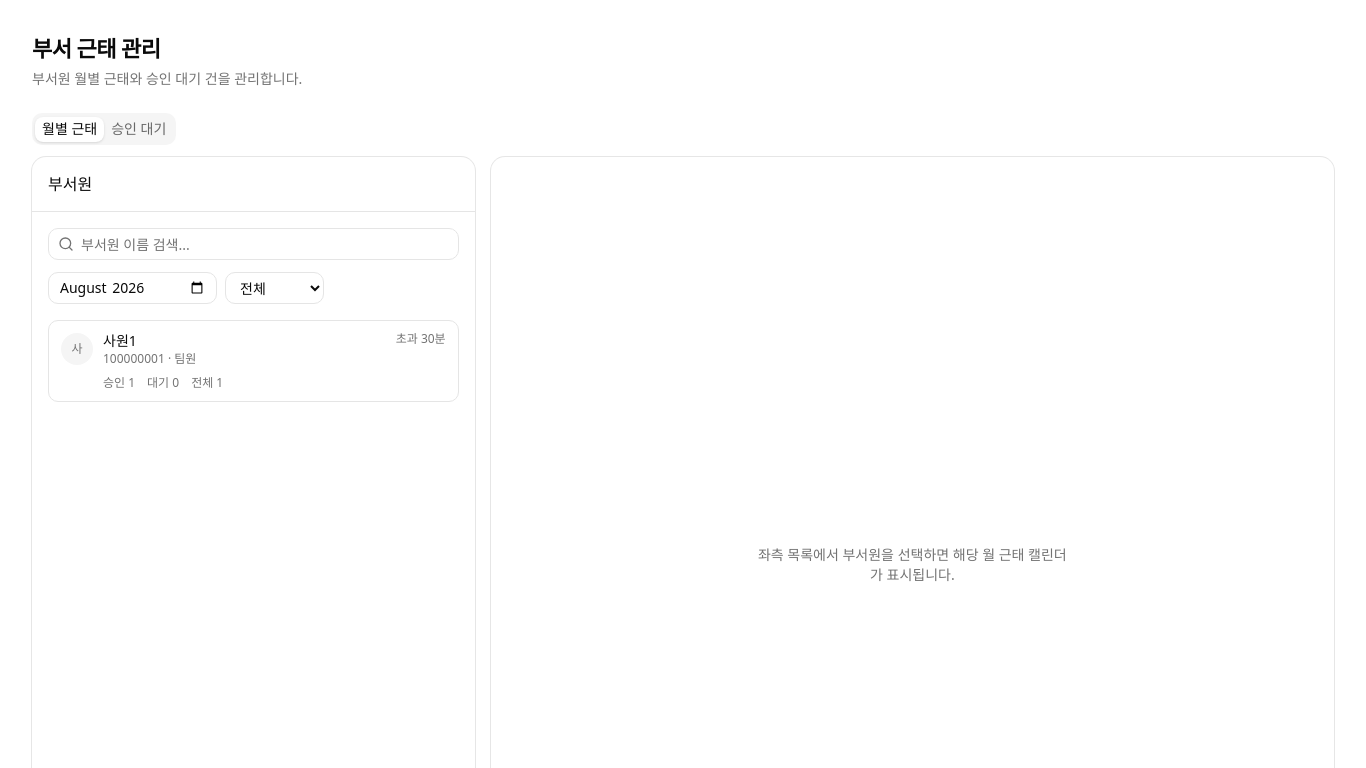
it: DeptAttendancePage (F305/F306) - 탭①/탭② 상태 분리(usePageState 별도 인스턴스) › 탭②에서 페이지를 이동한 뒤 탭①로 전환했다 돌아와도 탭②의 조회 페이지가 유지된다
The image size is (1366, 768).
Check: the text "사원1" is shown, box [103, 331, 137, 350]
What coordinates should you click on to do the following:
click the tab "승인 대기"
I would click on:
 (139, 129)
Its box is [104, 116, 173, 142].
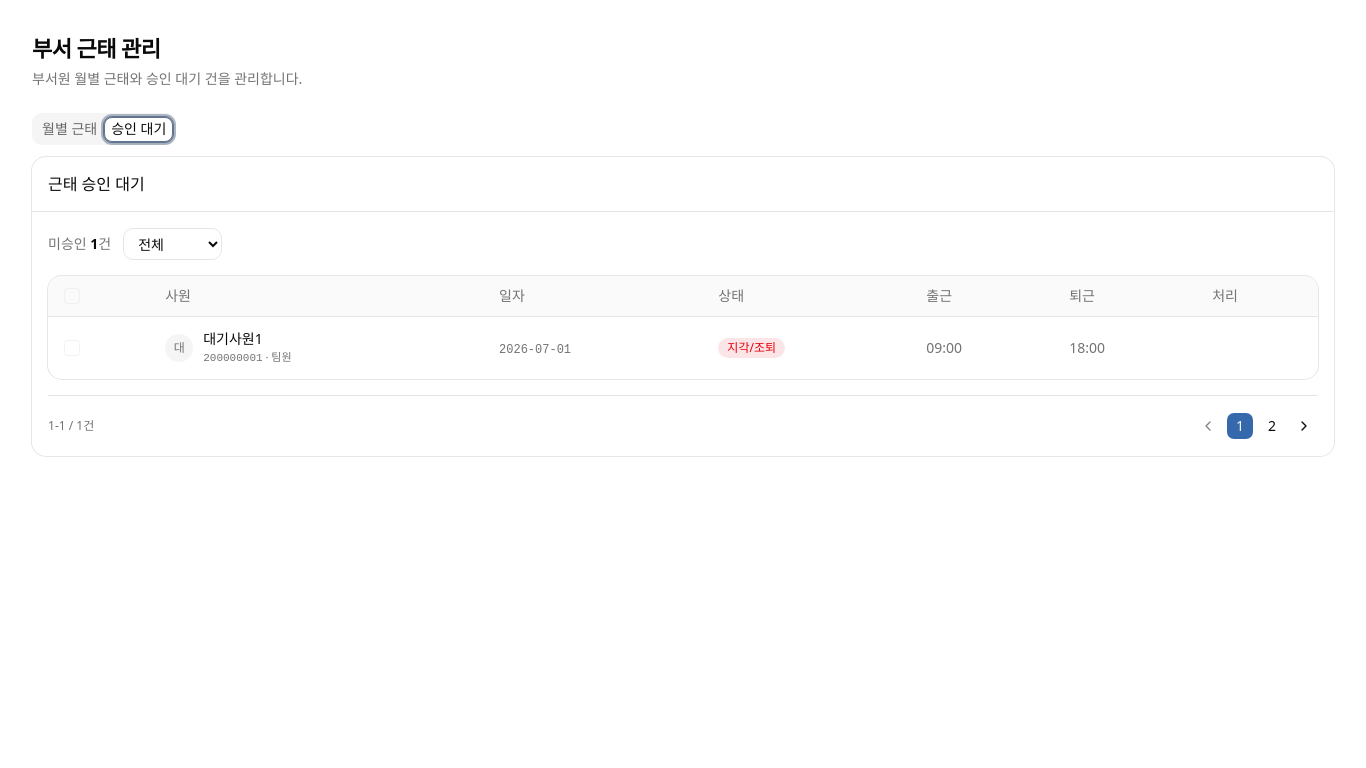
Check: the text "대기사원1" is shown, box [203, 329, 263, 348]
What coordinates should you click on to do the following:
click the button named "다음 페이지"
I would click on:
 (1304, 426)
Its box is [1290, 412, 1318, 440].
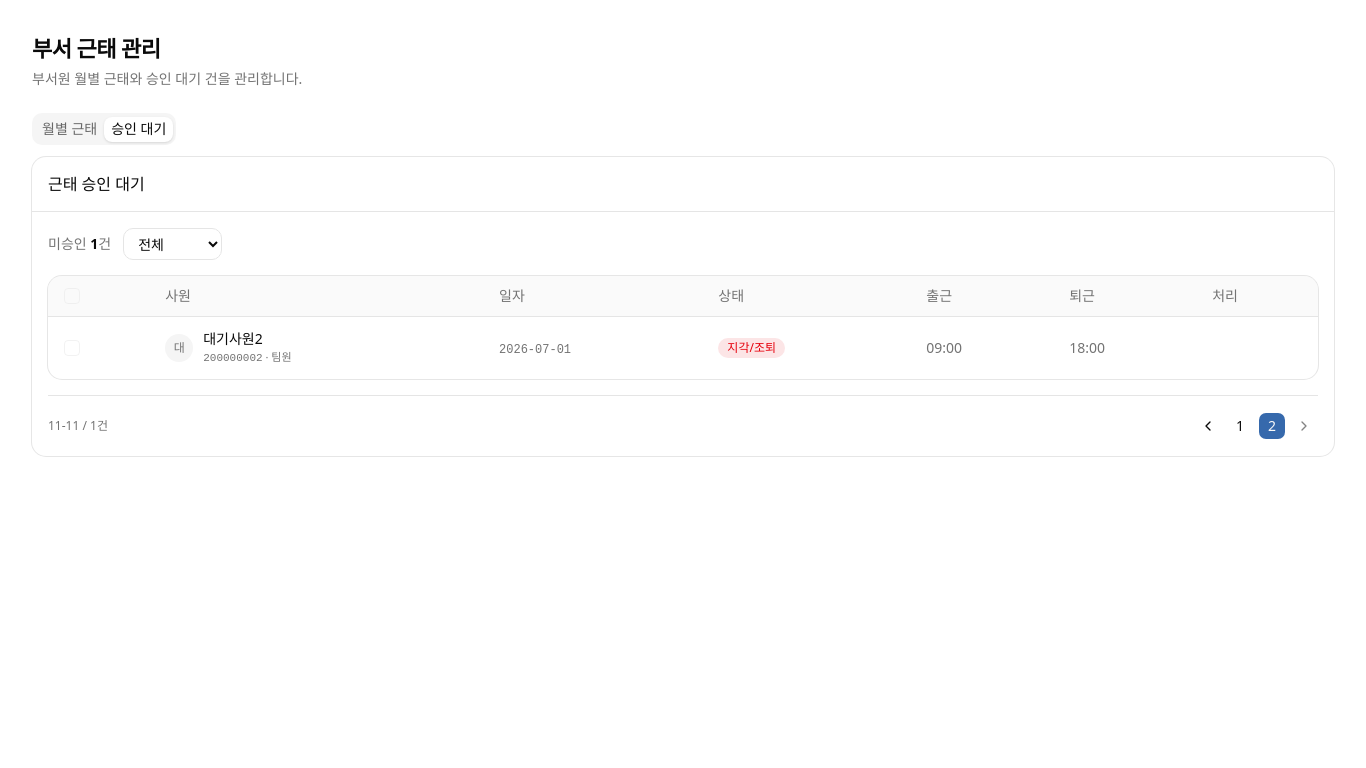
Check: the text "대기사원2" is shown, box [203, 329, 263, 348]
What coordinates should you click on to do the following:
click the tab "월별 근태"
I would click on:
 (70, 129)
Its box is [35, 116, 104, 142].
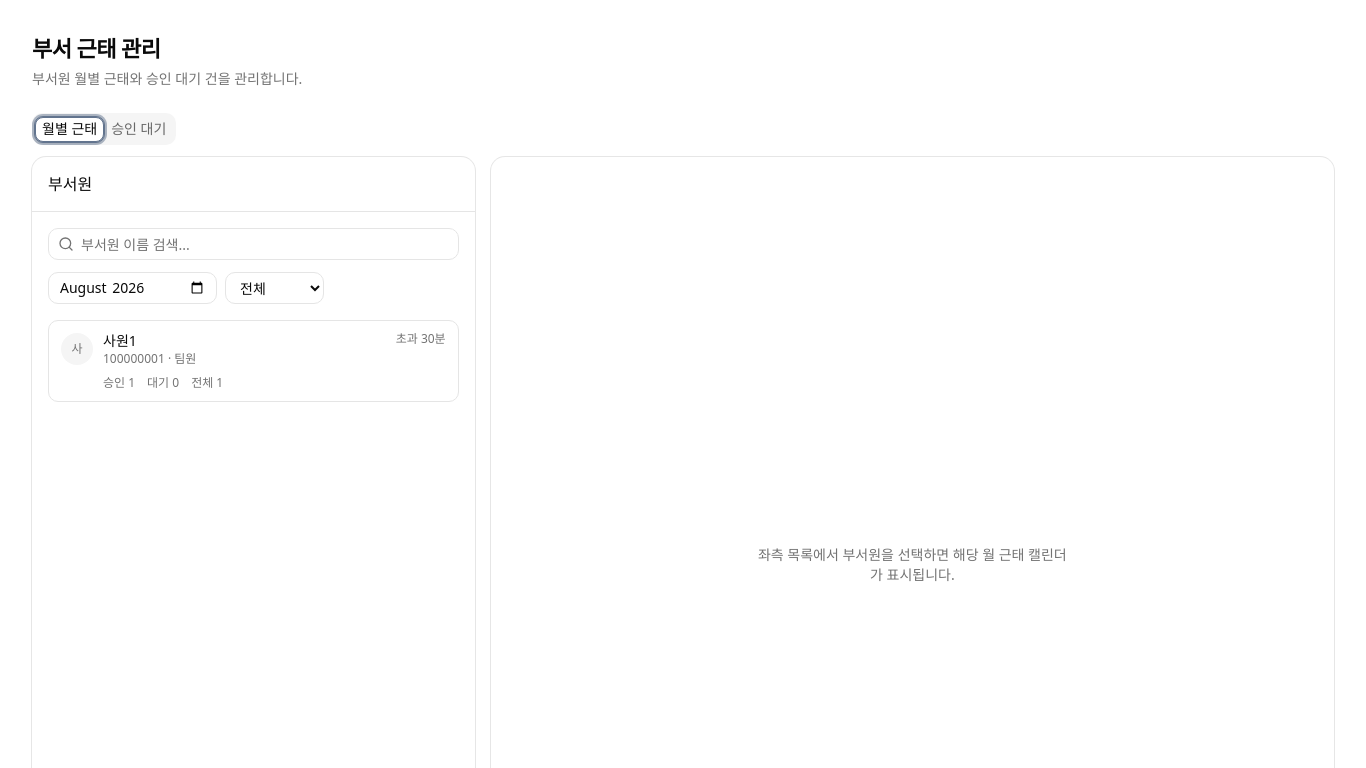
Check: the text "사원1" is shown, box [103, 331, 137, 350]
What coordinates should you click on to do the following:
click the tab "승인 대기"
I would click on:
 (139, 129)
Its box is [104, 116, 173, 142].
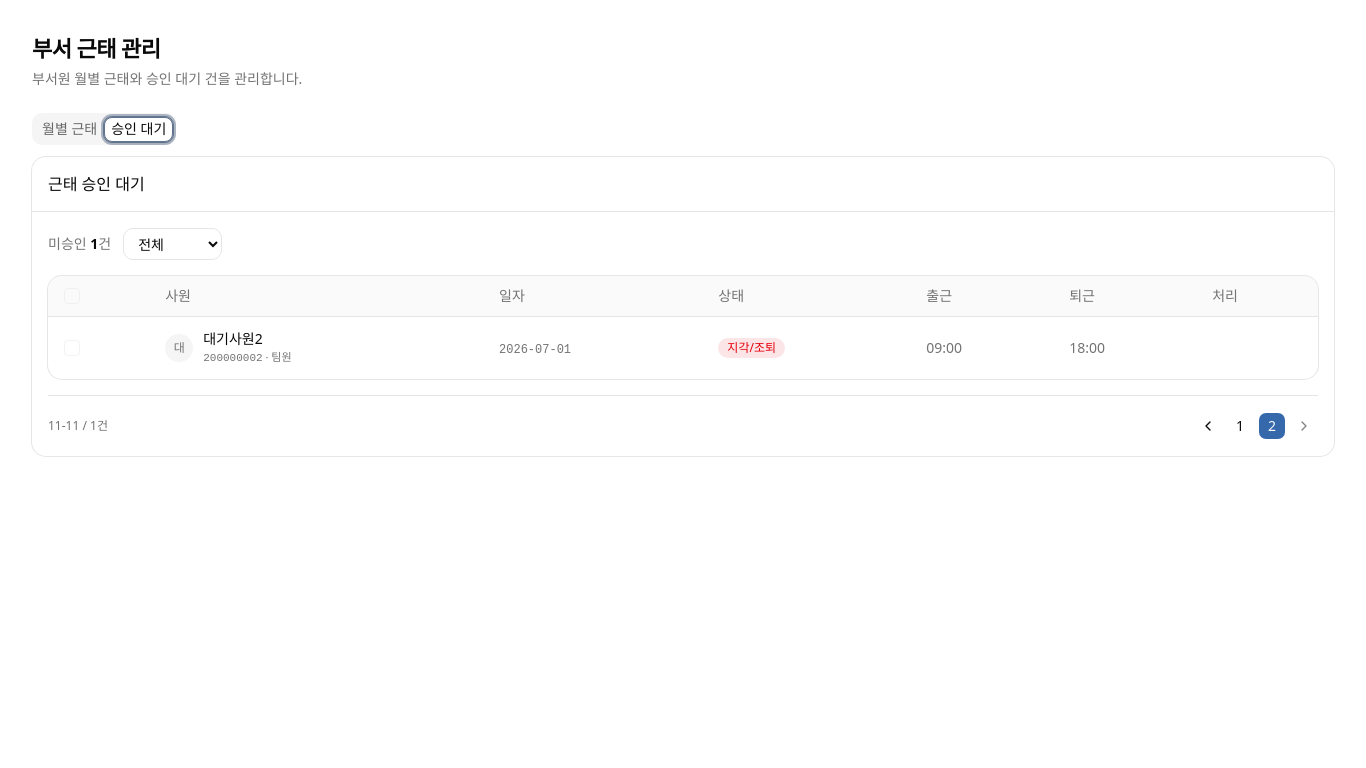
Check: the text "대기사원1" is not shown
Check: the text "대기사원2" is shown, box [203, 329, 263, 348]
